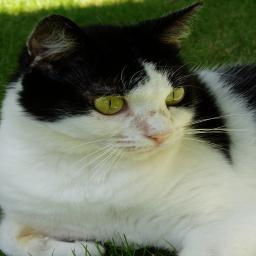catnose: (140, 126, 176, 147)
